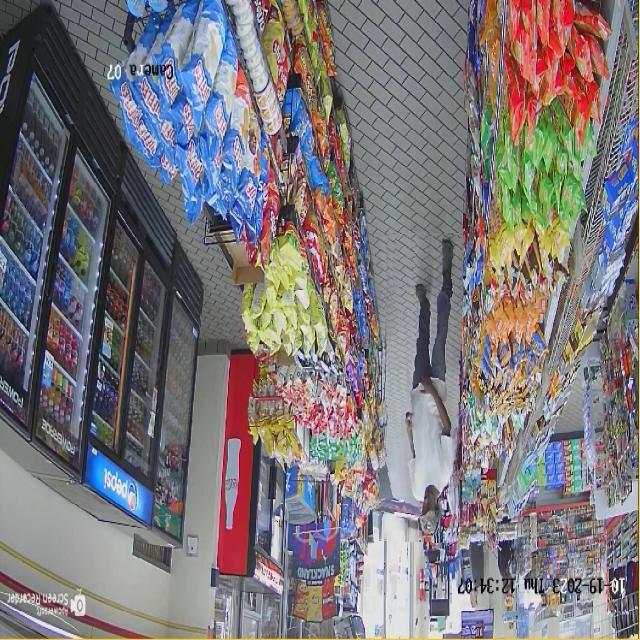Normal: (380, 233, 462, 542)
